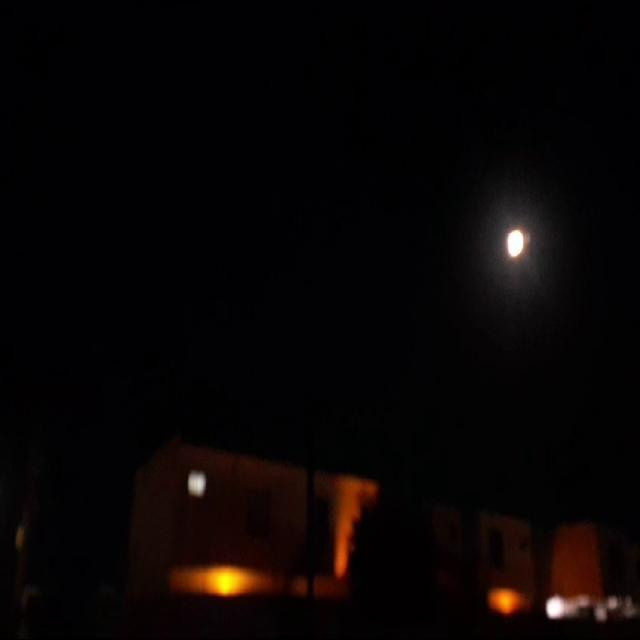moon: (504, 225, 527, 259)
